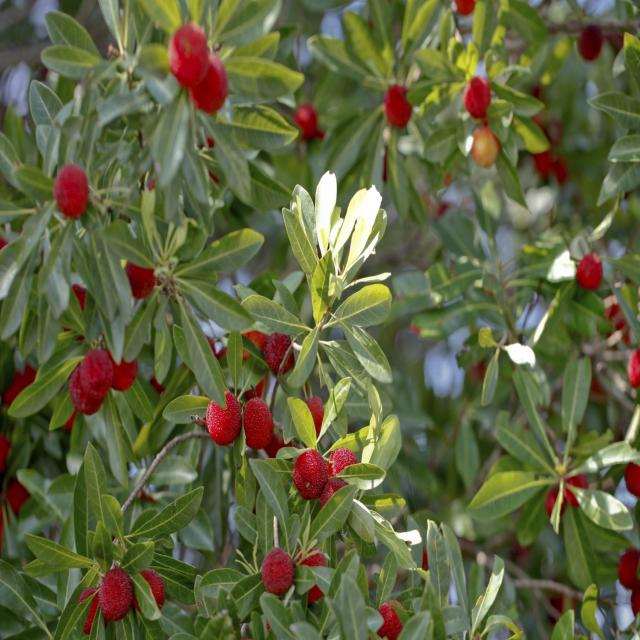Arbutus menziesii: (4, 233, 380, 640)
